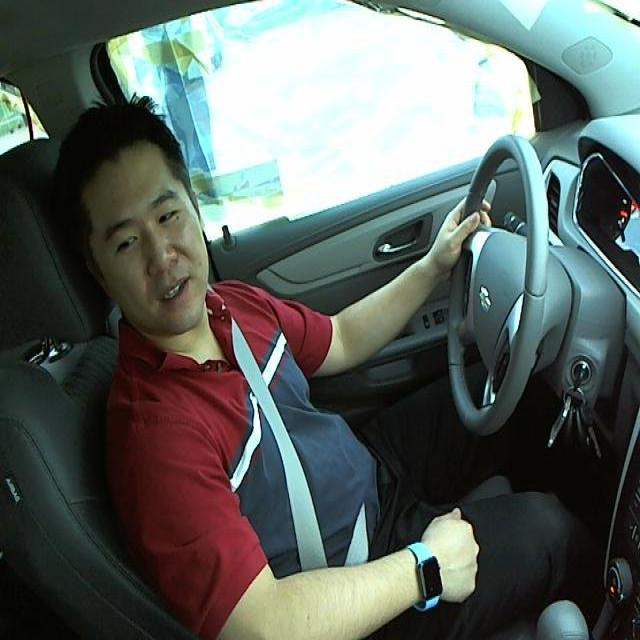seatbelt: (229, 357, 398, 576)
